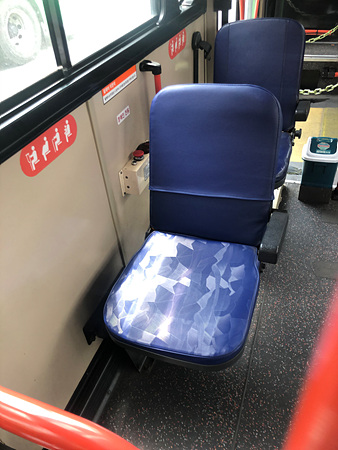seat: (105, 87, 277, 359)
